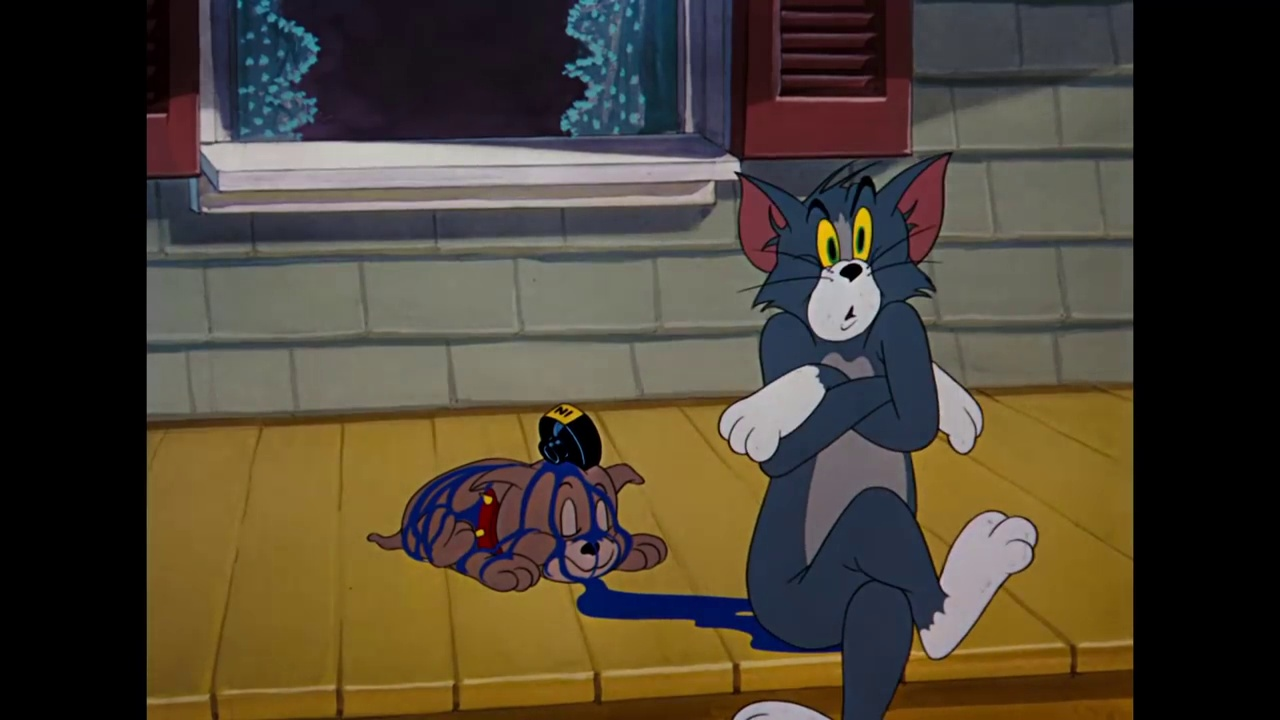tom: (723, 150, 964, 350)
